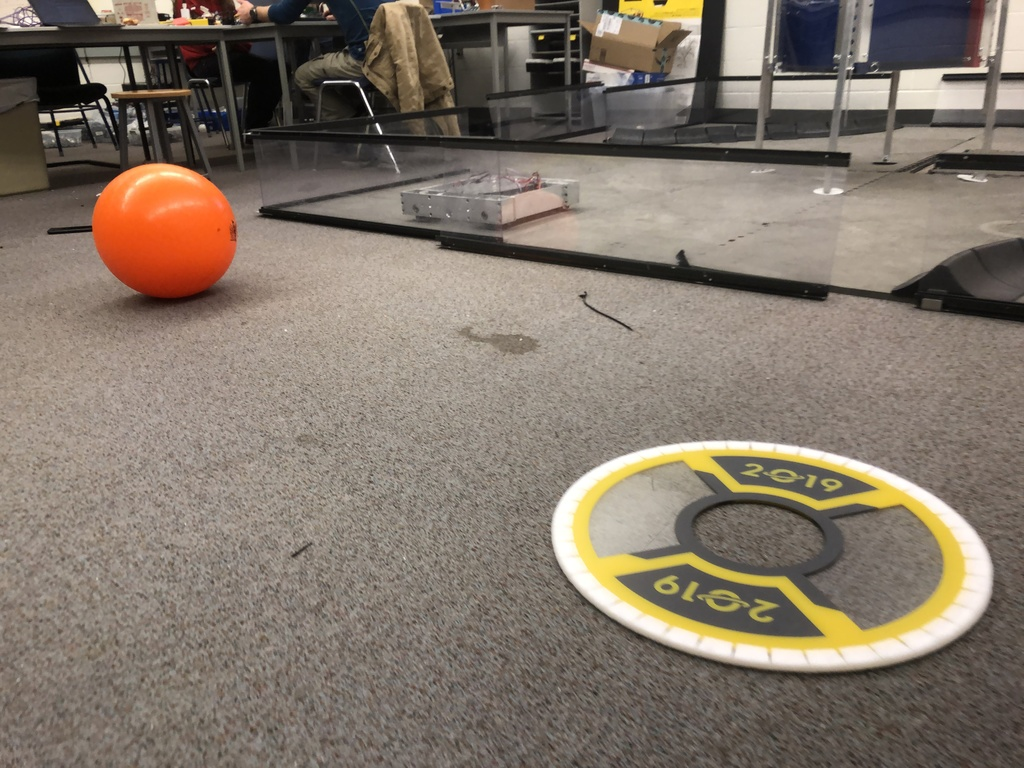hatch_panel: (528, 417, 1007, 679)
